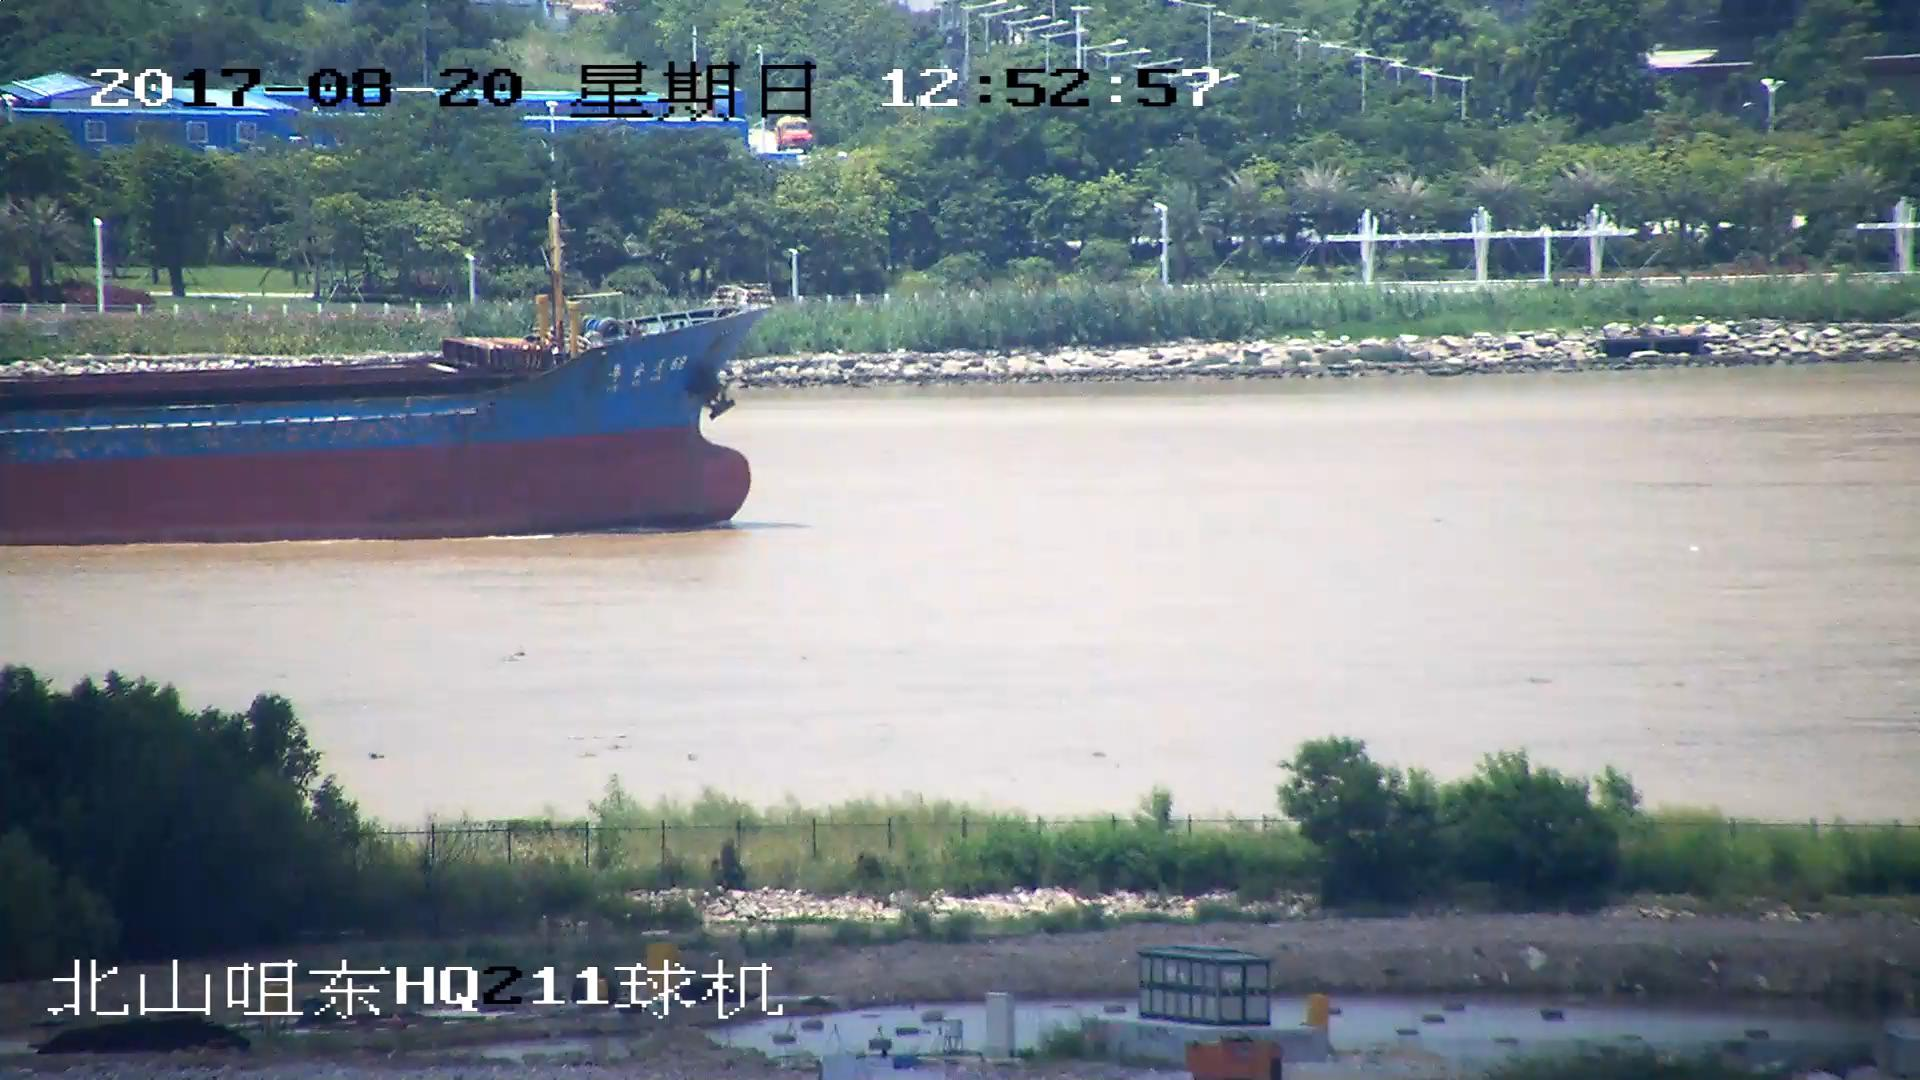Ship: (3, 295, 777, 545)
